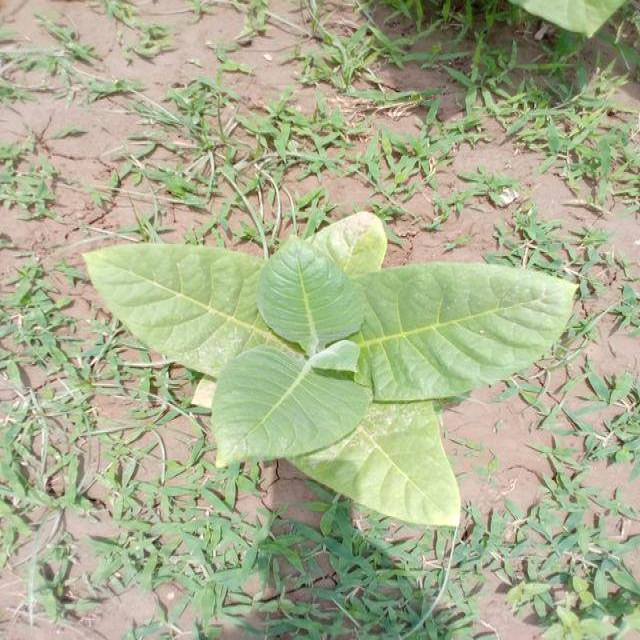crop: (94, 244, 568, 526), (520, 0, 618, 46)
